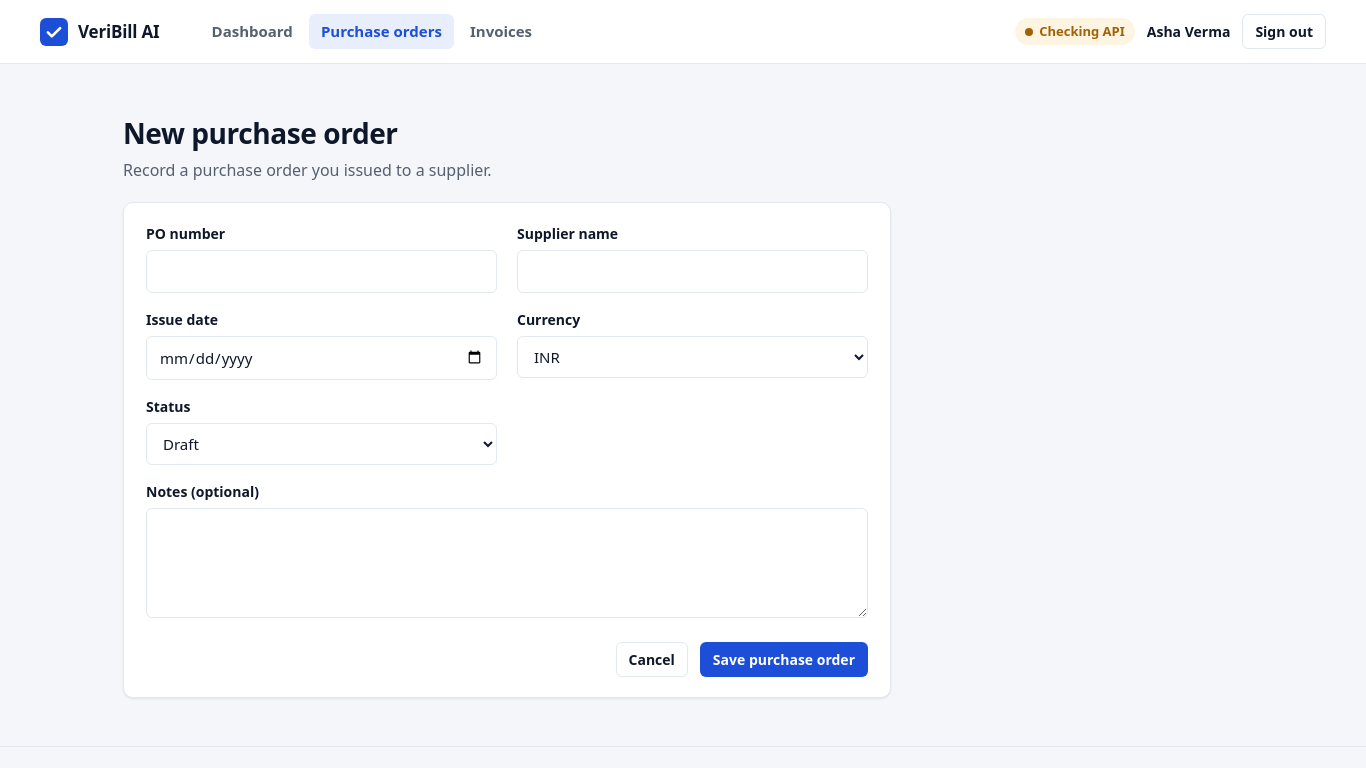
NewPurchaseOrderPage › shows server errors next to the field they belong to
This screenshot has width=1366, height=768.
expect the heading "New purchase order" is shown: met, box [123, 114, 398, 152]
Type "PO-2026-001" into the field labelled "PO number" at (322,271), box [146, 250, 497, 292]
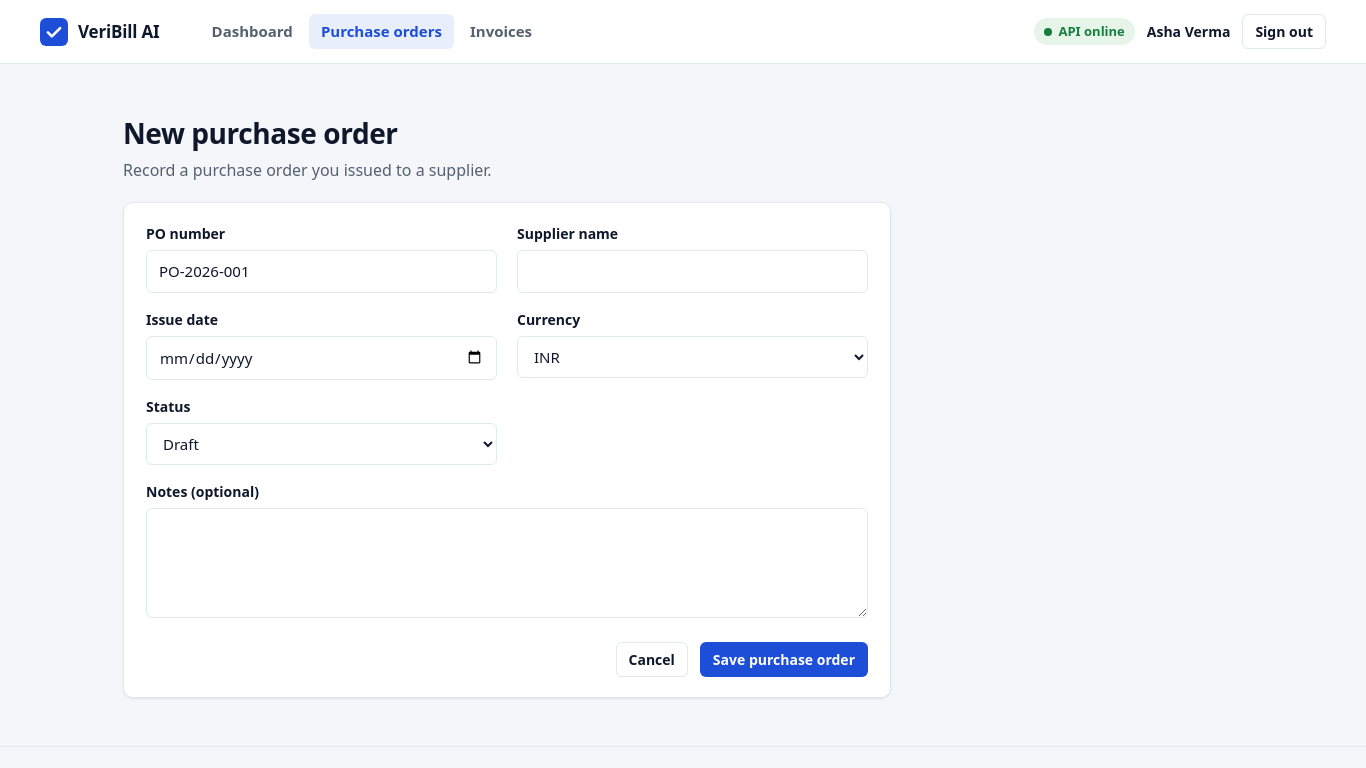
Type "Acme Industrial Supplies" into the field labelled "Supplier name" at (692,271), box [517, 250, 868, 292]
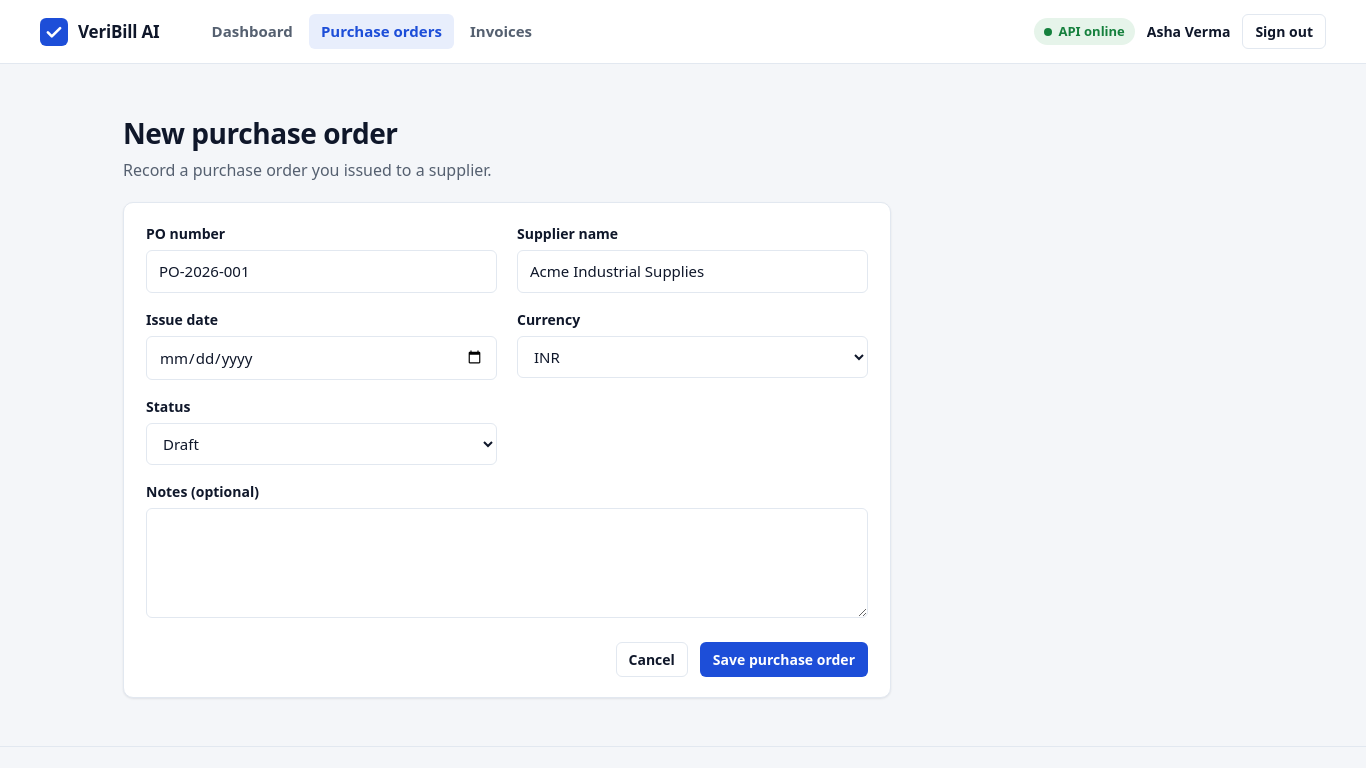
Type "2026-10-01" into the date field labelled "Issue date" at (322,358), box [146, 336, 497, 380]
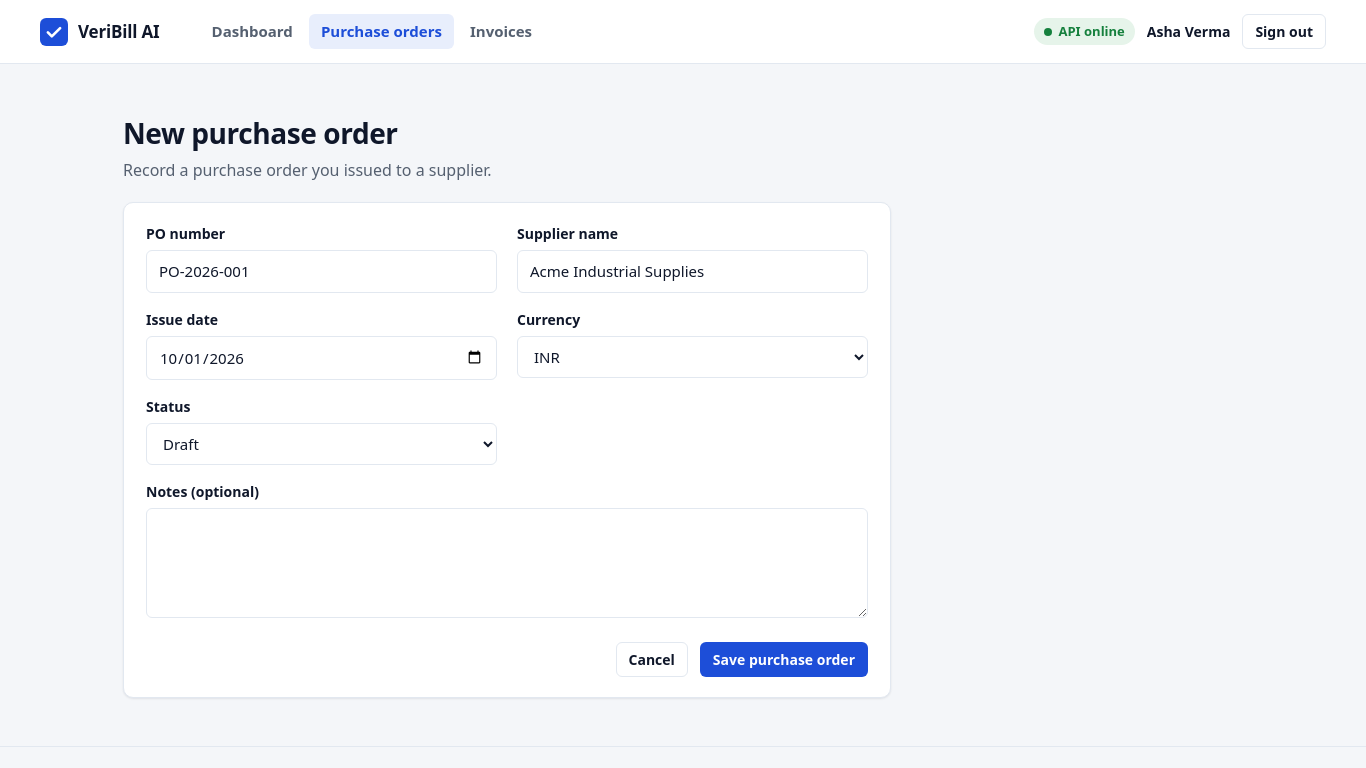
Select "Open" in the dropdown labelled "Status" at (322,444), box [146, 423, 497, 465]
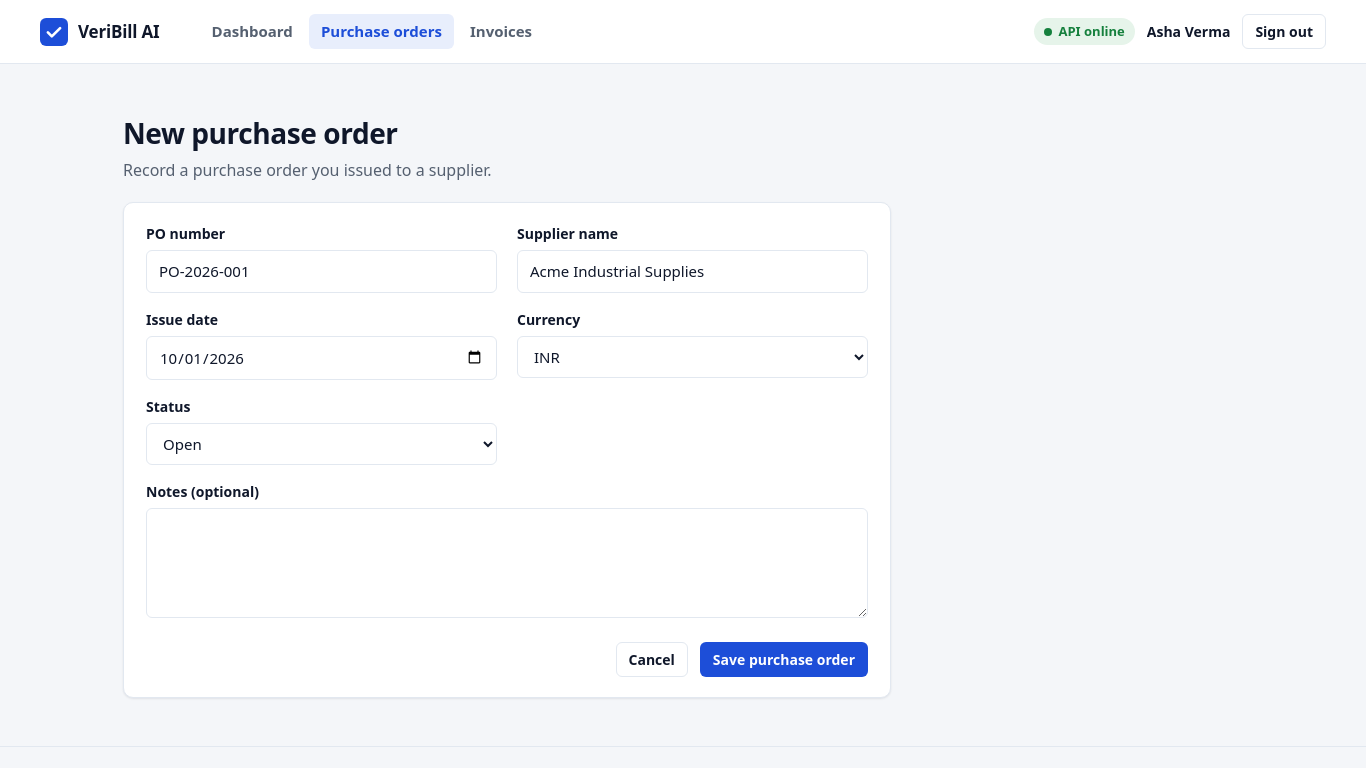
Type "Deliver to gate 2" into the text box labelled "Notes (optional)" at (507,563), box [146, 508, 868, 618]
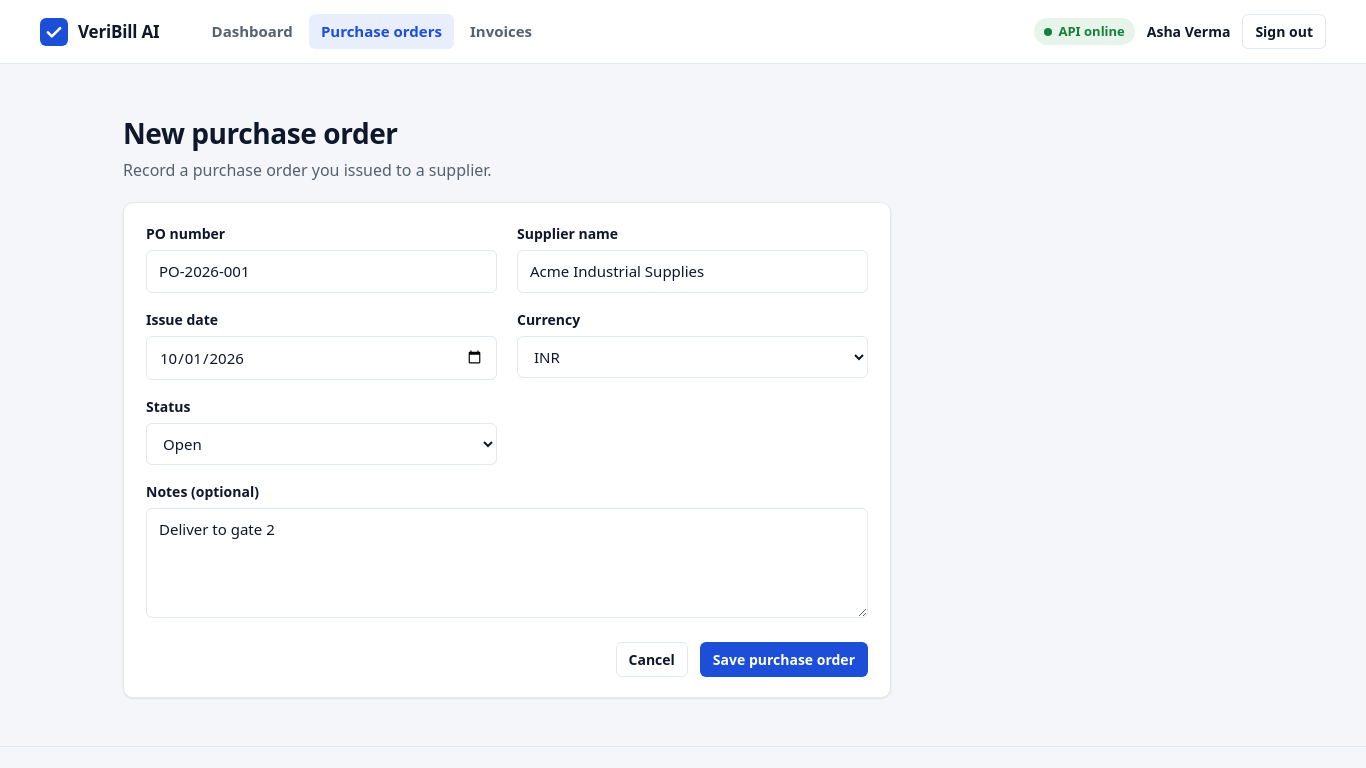
Click the button "Save purchase order" at (784,660), box [700, 642, 868, 677]
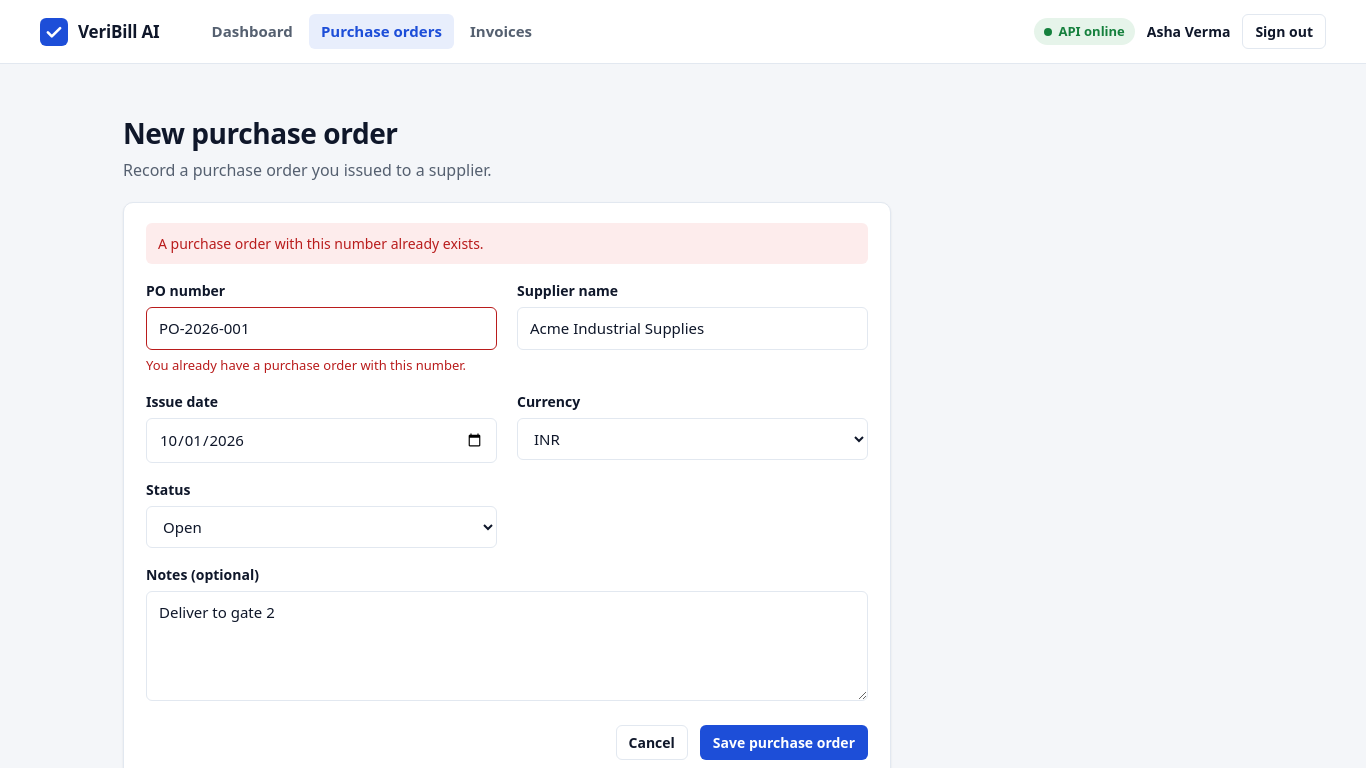
expect the button "Save purchase order" is enabled: met, box [700, 724, 868, 760]
expect the message reads "A purchase order with this number already exists.": met, box [158, 234, 484, 253]
